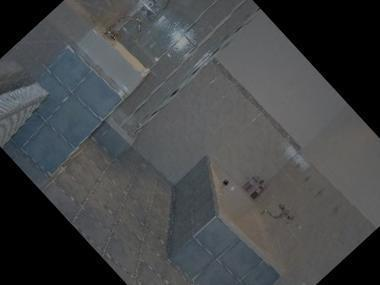Ducha: (41, 0, 268, 160)
